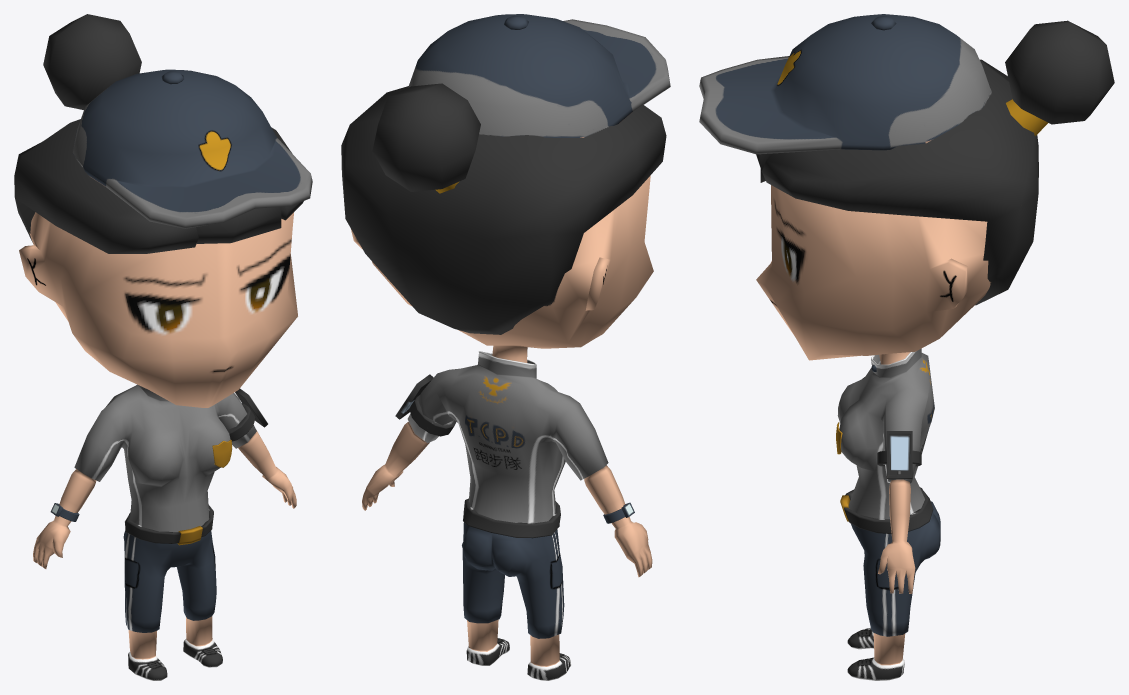
The model's file is Officer_Wen v5.fbx.
The picture shows the model from 3 angles, left to right: view 1: azimuth 30°, elevation 25°; view 2: azimuth 150°, elevation 25°; view 3: azimuth 270°, elevation 25°; orthographic projection. The views are drawn at different scales.
Parts seen in each view (by area): view 1: Officer.Wen.002; view 2: Officer.Wen.002; view 3: Officer.Wen.002.
Part boxes in pixels (left/top/right/bottom): Officer.Wen.002: left=14, top=14, right=312, bottom=680; Officer.Wen.002: left=341, top=14, right=670, bottom=680; Officer.Wen.002: left=699, top=14, right=1114, bottom=680.
Size of the model in its own units: 287 by 639 by 375.
